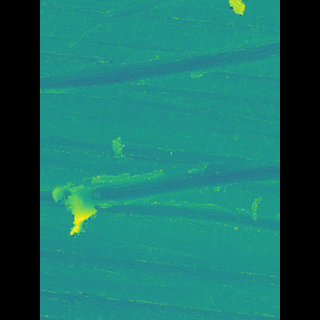Loch: (68, 23, 250, 91), (109, 158, 250, 235), (82, 0, 179, 54), (76, 165, 114, 243)
